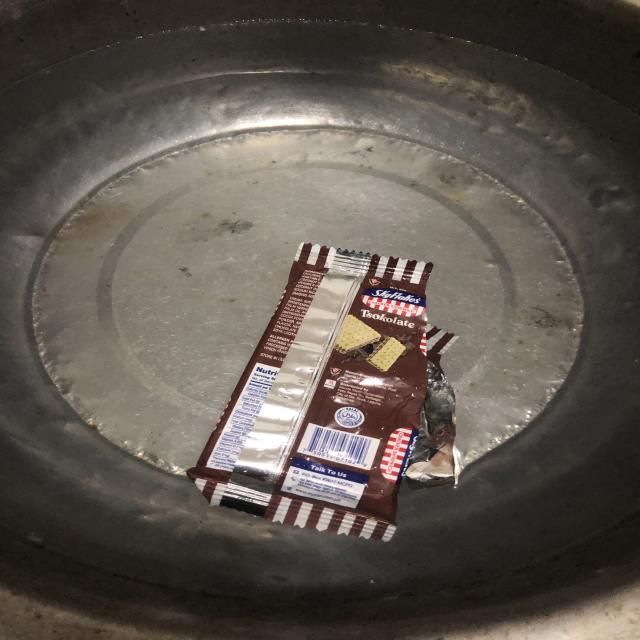Plastic Wrapper: (169, 216, 504, 557)
